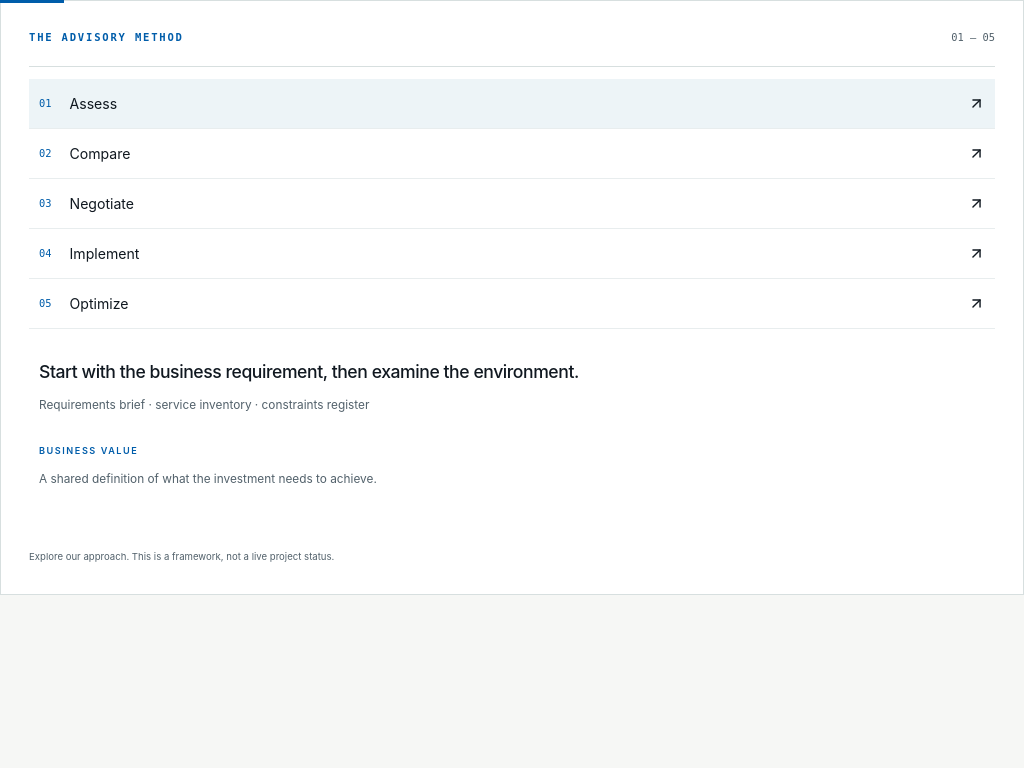
Test: interactive planning controls › shows each stage without completed milestone language
Click the button "03 Negotiate": (102, 204) [29,179,995,229]
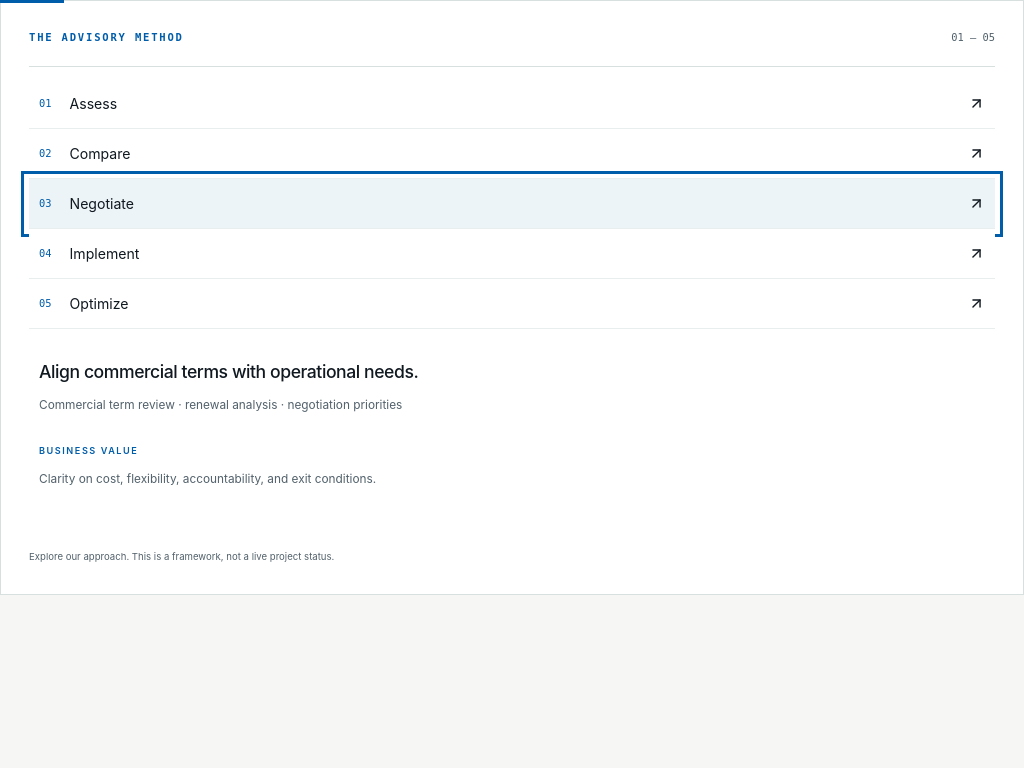
expect the number of buttons is 5: met, box [29,79,995,129]; [29,129,995,179]; [29,179,995,229]; [29,229,995,279]; [29,279,995,329]
expect the heading "Align commercial terms with operational needs." is shown: met, box [39,361,418,382]
